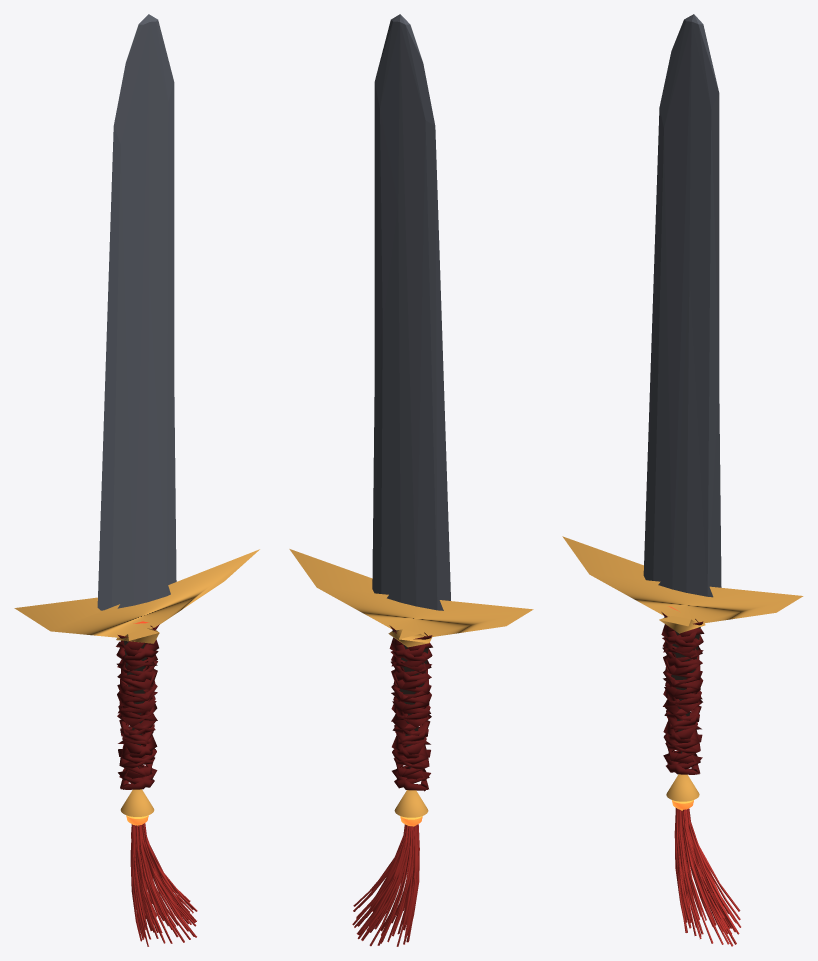
Rendered from hong-vu-truong-ca.glb.
3 renders of one model, left to right at view 1: azimuth 30°, elevation 25°; view 2: azimuth 150°, elevation 25°; view 3: azimuth 330°, elevation 25°, orthographic.
Parts seen in each view (by area): view 1: blade, guard, wrap, tassel, pommel; view 2: blade, guard, wrap, tassel, pommel; view 3: blade, guard, wrap, tassel, pommel.
Part boxes in pixels (x1,y1,x2,y2): blade: (97, 14, 176, 610); guard: (14, 549, 259, 637); wrap: (116, 624, 159, 789); tassel: (130, 823, 197, 946); pommel: (120, 789, 154, 816); blade: (372, 14, 450, 610); guard: (289, 549, 533, 636); wrap: (389, 625, 432, 791); tassel: (352, 824, 419, 946); pommel: (394, 790, 428, 817); blade: (643, 14, 721, 597); guard: (562, 536, 803, 623); wrap: (661, 612, 704, 774); tassel: (674, 808, 740, 946); pommel: (666, 774, 699, 801).
Size of the model in its own units: 0.4397 by 1.59 by 0.0719.
